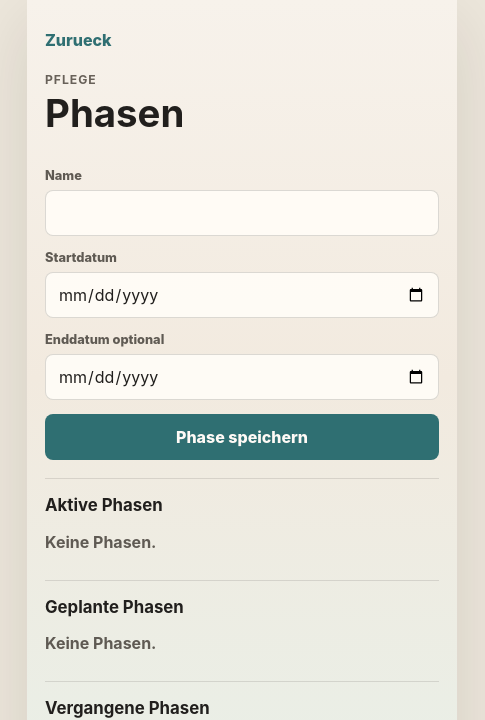
Test case: PhasesScreen › rejects an end date before the start date
Type "Invalid phase" into the field labelled "Name" at {"x": 242, "y": 213}, box [45,190,439,236]
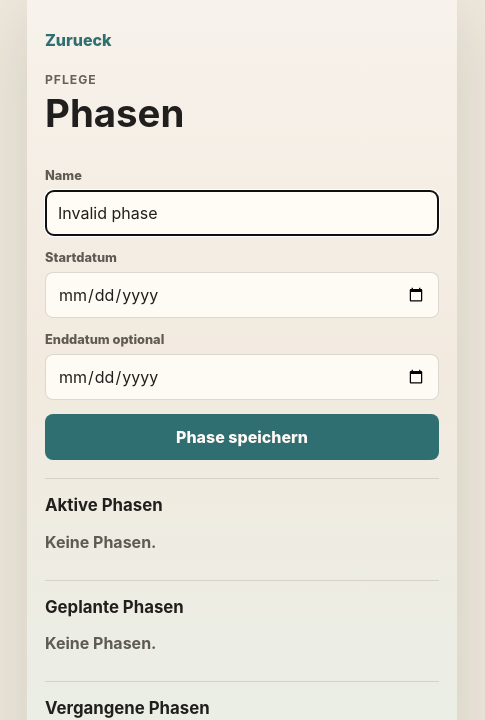
Type "2026-06-10" into the date field labelled "Startdatum" at {"x": 242, "y": 295}, box [45,272,439,318]
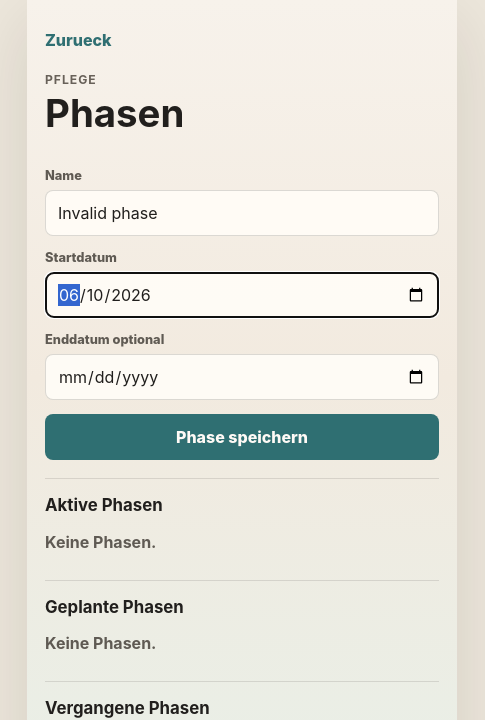
Type "2026-06-09" into the date field labelled "Enddatum optional" at {"x": 242, "y": 377}, box [45,354,439,400]
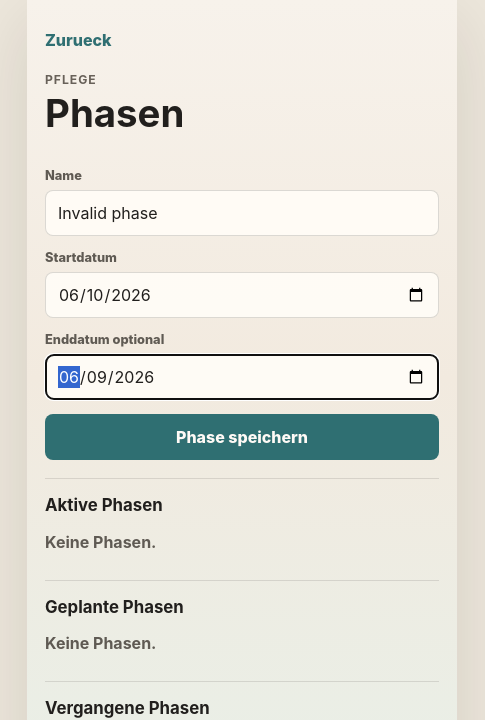
Click the button "Phase speichern" at {"x": 242, "y": 437}, box [45,414,439,460]
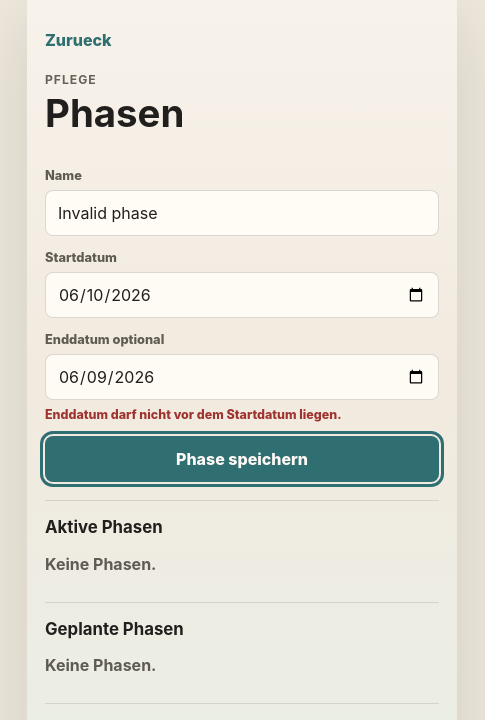
Result: the message reads "Enddatum darf nicht vor dem Startdatum liegen." at [45,407,342,422]
